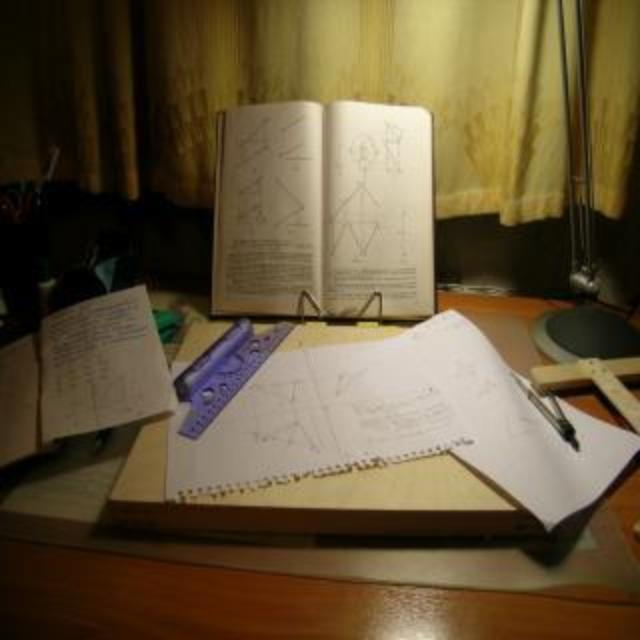book: (212, 98, 434, 318)
